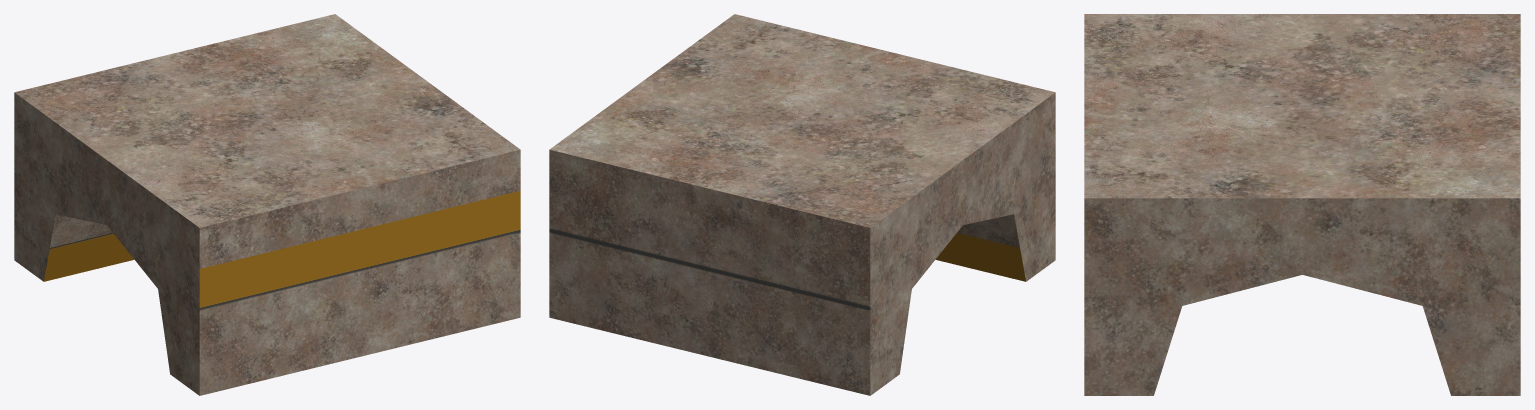
File: SM_Arch_Floor.gltf
The picture shows the model from 3 angles, left to right: view 1: azimuth 30°, elevation 25°; view 2: azimuth 150°, elevation 25°; view 3: azimuth 270°, elevation 25°; orthographic projection. The views are drawn at different scales.
Visible parts, largest first — view 1: SM_WetHallProps_JFG_Ceiling_Special_M_Trim_JFG_Rocks_Wet_0; view 2: SM_WetHallProps_JFG_Ceiling_Special_M_Trim_JFG_Rocks_Wet_0; view 3: SM_WetHallProps_JFG_Ceiling_Special_M_Trim_JFG_Rocks_Wet_0.
Boxes of the visible parts, x1,y1,x2,y2 form: SM_WetHallProps_JFG_Ceiling_Special_M_Trim_JFG_Rocks_Wet_0: [14, 14, 520, 395]; SM_WetHallProps_JFG_Ceiling_Special_M_Trim_JFG_Rocks_Wet_0: [549, 14, 1055, 395]; SM_WetHallProps_JFG_Ceiling_Special_M_Trim_JFG_Rocks_Wet_0: [1084, 14, 1520, 395].
Size of the model in its own units: 4 by 2 by 4.
Materials: 1 (1 with a texture image).
